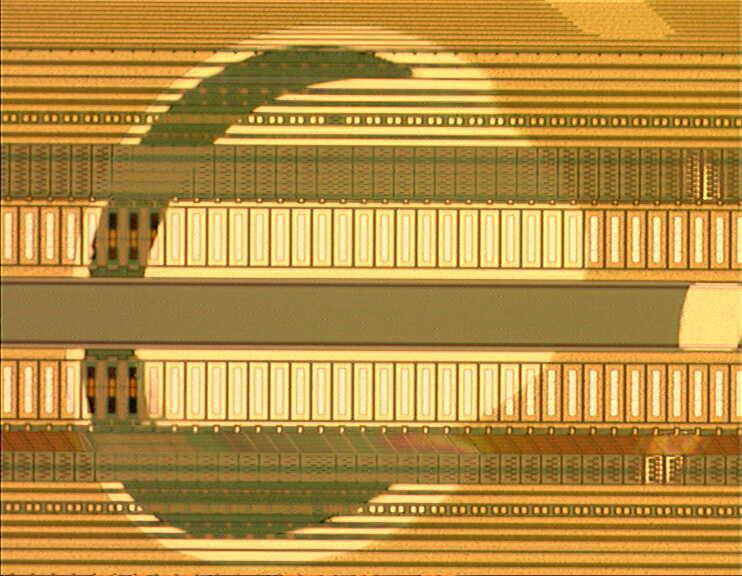BLOCK ETCH: (52, 1, 742, 576)
